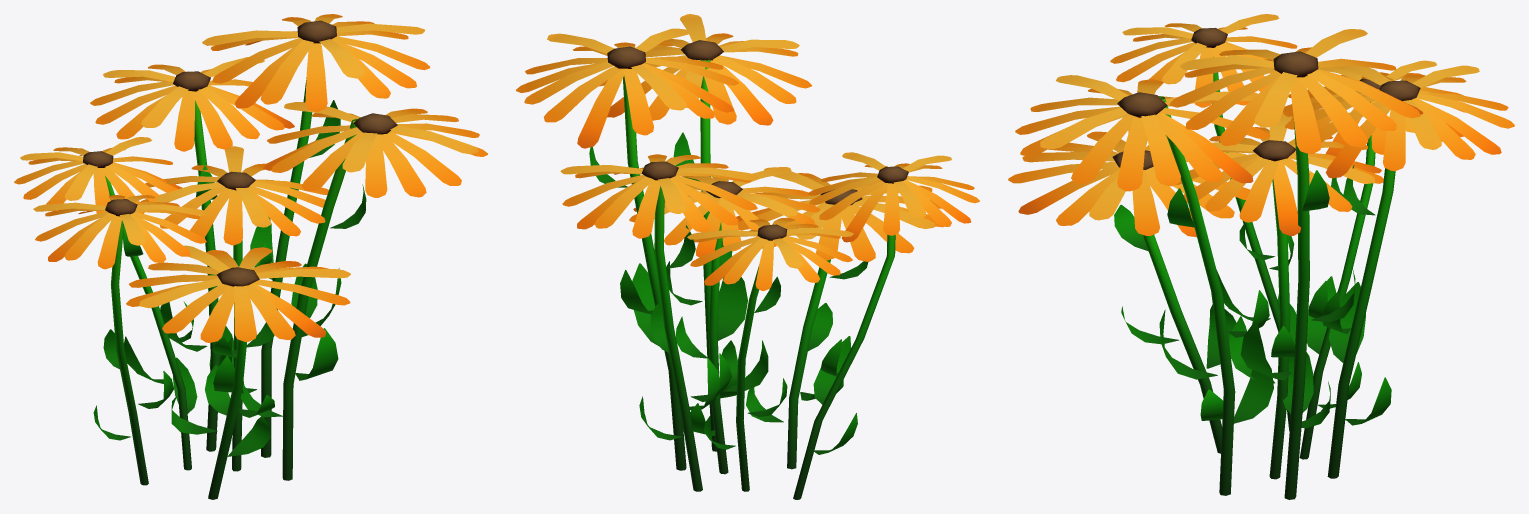
The model's file is 05_BlackEyedSusan.fbx.
The picture shows the model from 3 angles, left to right: view 1: azimuth 30°, elevation 25°; view 2: azimuth 150°, elevation 25°; view 3: azimuth 270°, elevation 25°; orthographic projection. The views are drawn at different scales.
Parts seen in each view (by area): view 1: _05_BlackEyedSusan; view 2: _05_BlackEyedSusan; view 3: _05_BlackEyedSusan.
Boxes of the visible parts, <box> form: _05_BlackEyedSusan: <box>14,14,487,499</box>; _05_BlackEyedSusan: <box>516,14,979,499</box>; _05_BlackEyedSusan: <box>1008,14,1514,499</box>.
Bounding box in the file's own units: 94.86 × 92.67 × 90.38.
